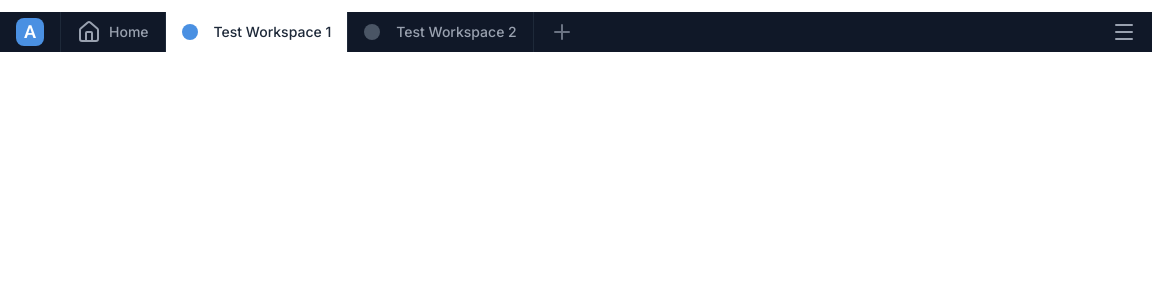
Test case: Header › opens menu when menu button is clicked
The width and height of the screenshot is (1164, 284).
Expected: the text "Settings" is not shown
// Click menu button
Click the 5th button at (1124, 32), box top-left (1096, 12), bottom-right (1152, 52)
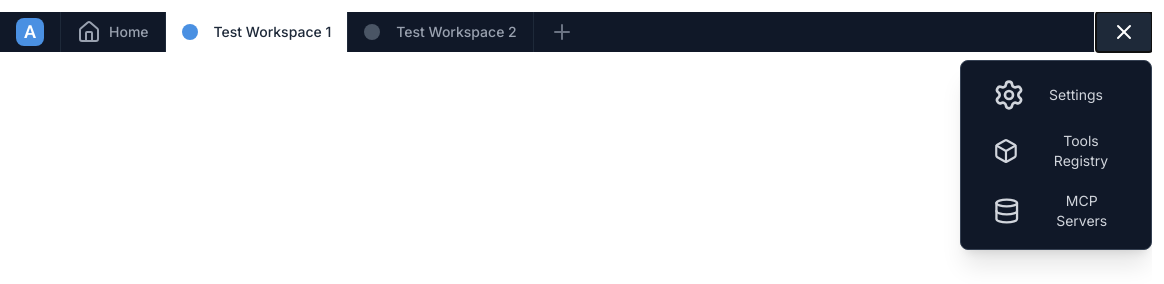
Now the text "Settings" is shown, box top-left (1049, 85), bottom-right (1103, 105)
Now the text "Tools Registry" is shown, box top-left (1054, 132), bottom-right (1108, 169)
Now the text "MCP Servers" is shown, box top-left (1056, 192), bottom-right (1107, 229)
